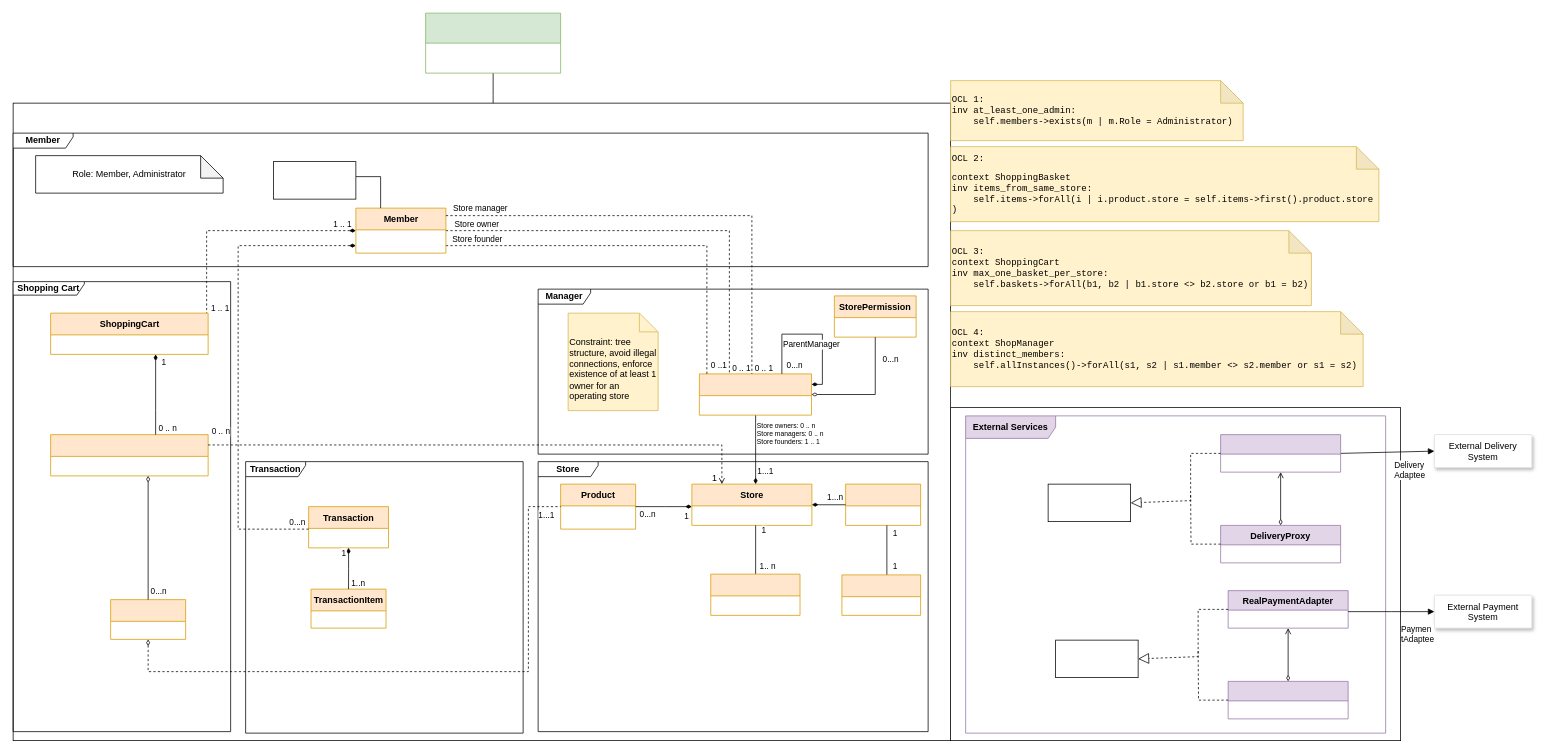
The diagram is 1550 pixels wide and 754 high, and some of its shapes have lost their labels. Here are the shapes that lost their labels. From the top down, the centre of each, then its label:
the point at 493,42: Market
the point at 314,180: Role
the point at 755,394: StoreManager
the point at 129,455: ShoppingBasket
the point at 1280,453: RealDeliveryAdapter
the point at 883,504: DiscountRule
the point at 1089,502: «interface» IDelivery
the point at 755,594: PurchaseRule
the point at 881,594: DiscountType
the point at 148,619: ShoppingItem
the point at 1096,658: «interface» IPayment
the point at 1287,700: PaymentProxy
